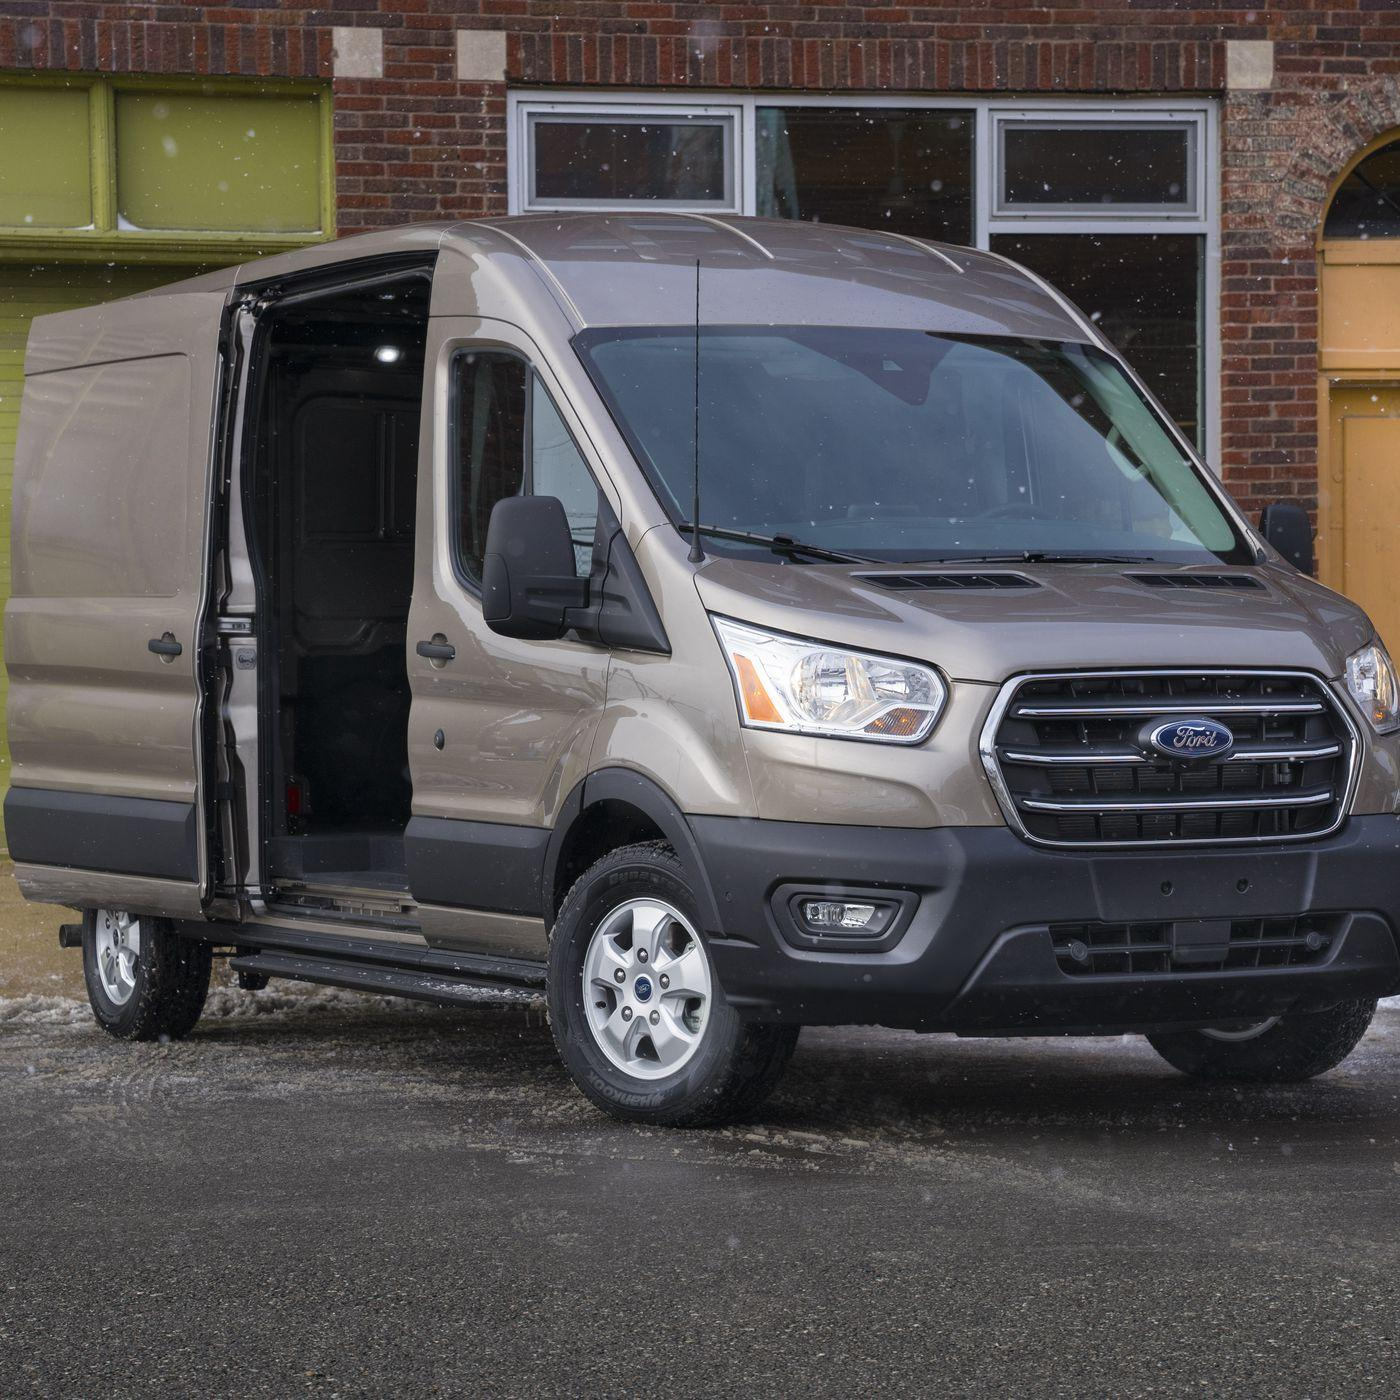van: (9, 212, 1400, 1128)
